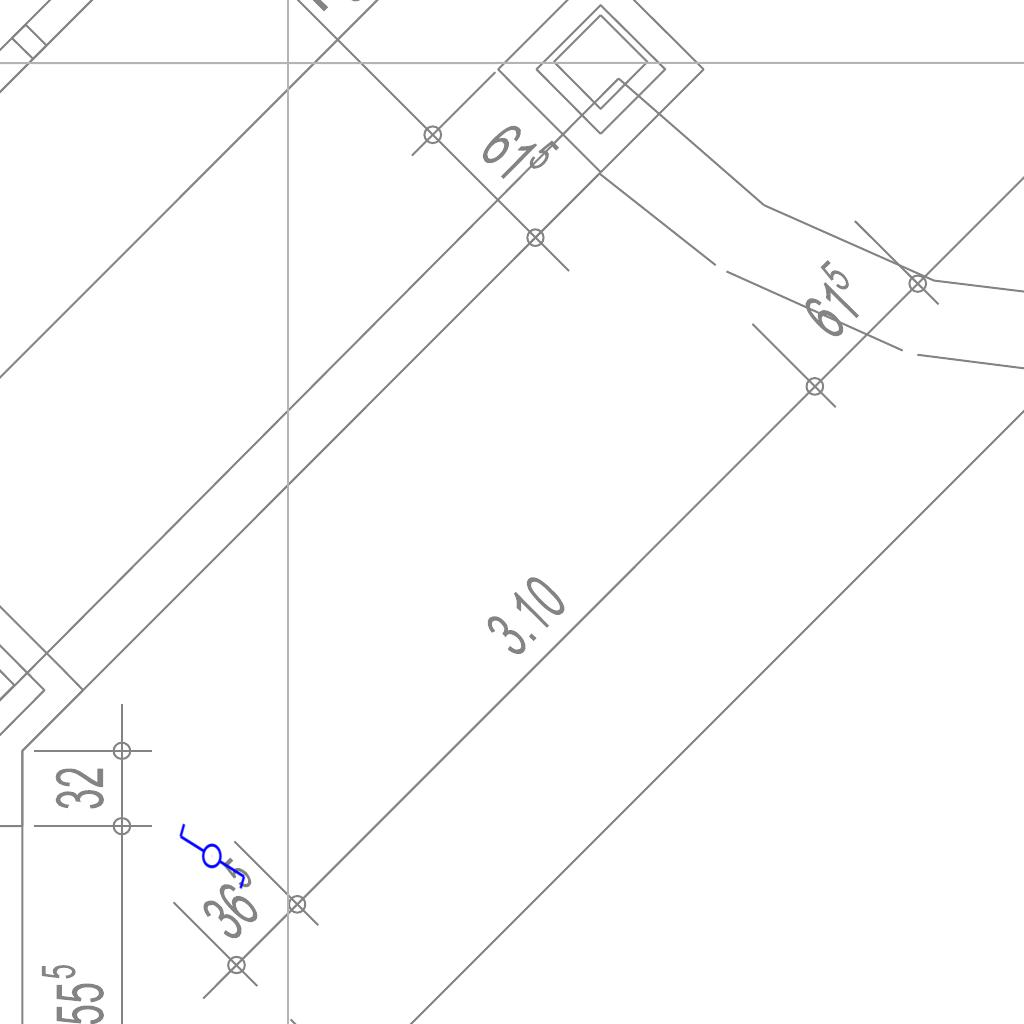Wechselschalter: (177, 813, 249, 891)
